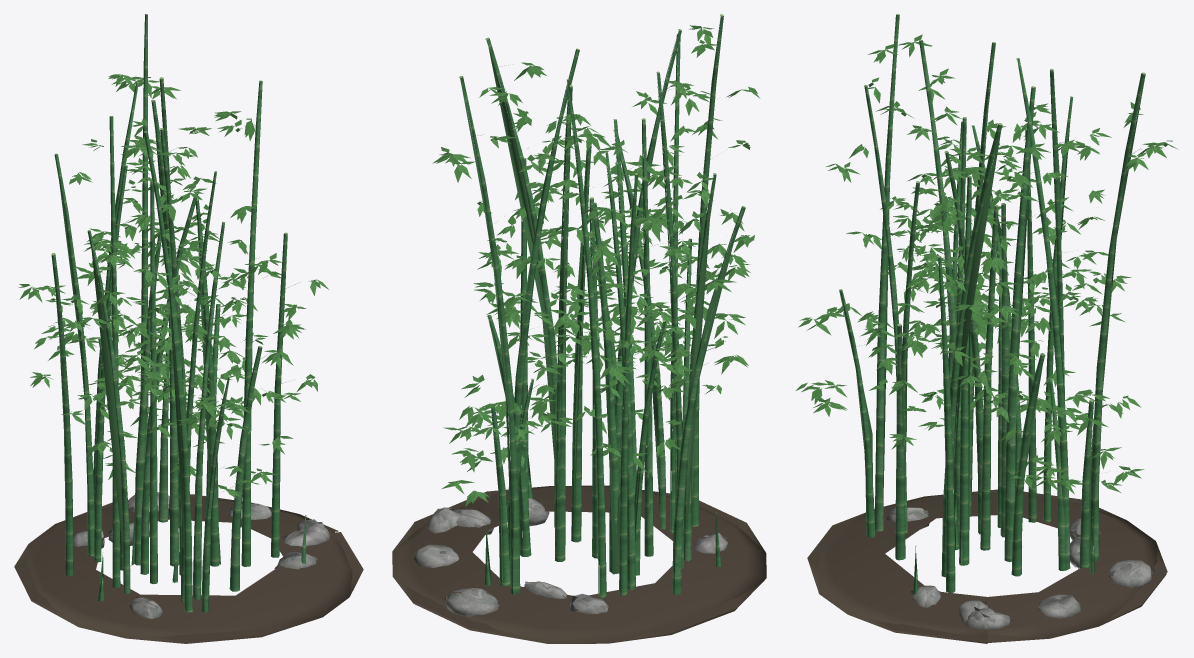
Rendered from prop_bamboo_grove.gltf.
3 renders of one model, left to right at view 1: azimuth 30°, elevation 25°; view 2: azimuth 150°, elevation 25°; view 3: azimuth 270°, elevation 25°, orthographic. The views are drawn at different scales.
Parts seen in each view (by area): view 1: Near, Far; view 2: Near, Far; view 3: Near, Far.
Part boxes in pixels (x1,y1,x2,y2): Near: (18, 14, 352, 643); Far: (14, 74, 363, 641); Near: (392, 14, 766, 643); Far: (393, 25, 765, 643); Near: (796, 14, 1172, 643); Far: (799, 34, 1178, 642).
Size of the model in its own units: 6 by 9.24 by 6.24.
5 materials, 3 textured.
